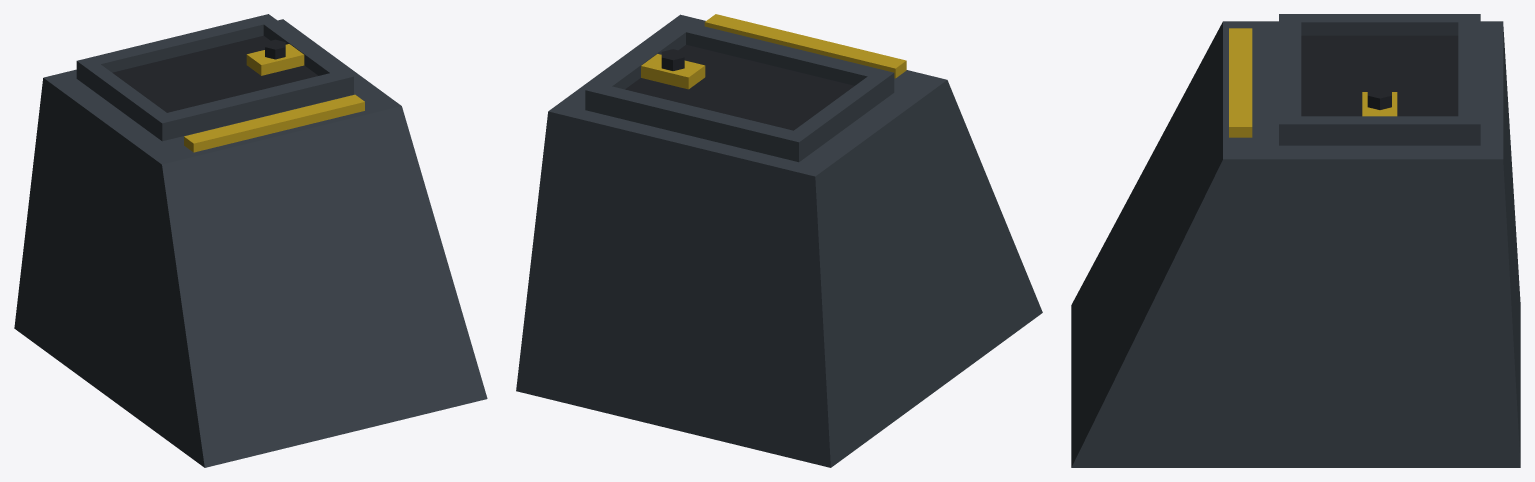
File: bp10_housing.obj
The picture shows the model from 3 angles, left to right: view 1: azimuth 30°, elevation 25°; view 2: azimuth 150°, elevation 25°; view 3: azimuth 270°, elevation 25°; orthographic projection. The views are drawn at different scales.
Visible parts, largest first — view 1: bp10_housing; view 2: bp10_housing; view 3: bp10_housing.
Part boxes in pixels (bbox=[...]): bp10_housing: bbox=[14, 14, 487, 467]; bp10_housing: bbox=[516, 14, 1042, 467]; bp10_housing: bbox=[1071, 14, 1520, 467].
Bounding box in the file's own units: 0.66 × 0.621 × 0.77.
